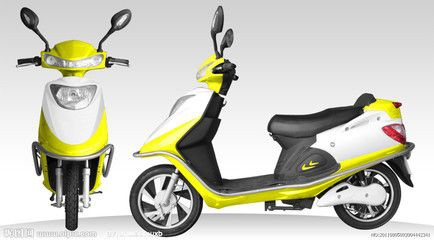non-vehicle: (124, 8, 417, 234), (15, 3, 131, 237)
